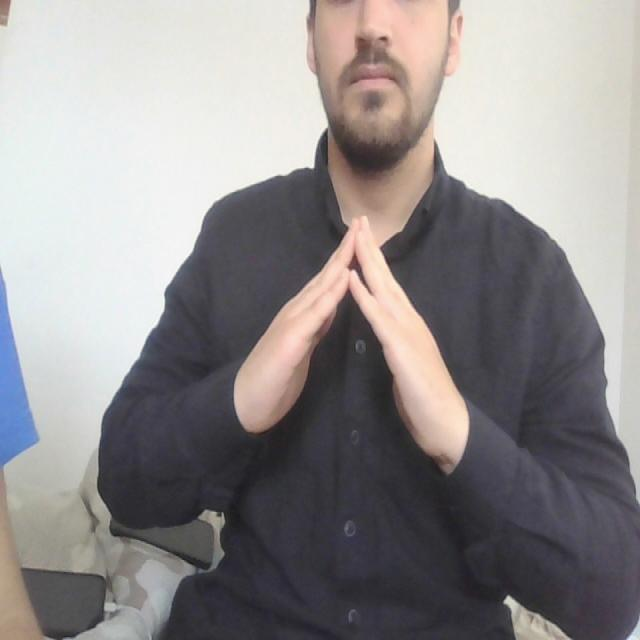Ev: (231, 213, 469, 468)
